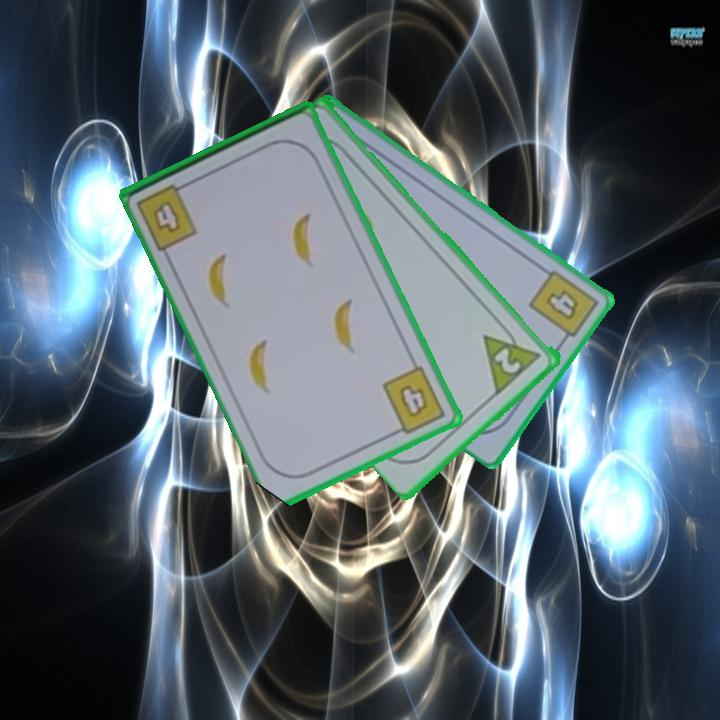2p: (491, 343, 525, 377)
4b: (525, 266, 602, 348), (379, 362, 449, 439), (133, 178, 201, 253)
